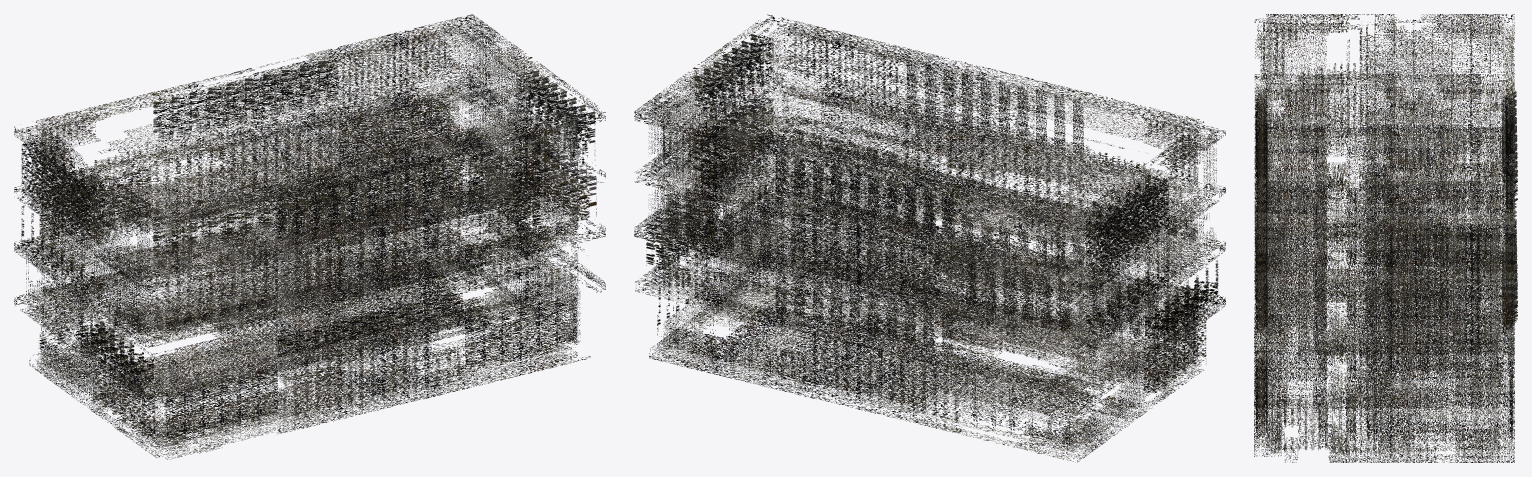
The model's file is WindowMeshGridBuilding.fbx.
3 views of the same model, side by side, from view 1: azimuth 30°, elevation 25°; view 2: azimuth 150°, elevation 25°; view 3: azimuth 270°, elevation 25° (orthographic). The views are drawn at different scales.
Visible parts, largest first — view 1: Cube.003; view 2: Cube.003; view 3: Cube.003.
Part boxes in pixels (left/top/right/bottom): Cube.003: left=14, top=14, right=605, bottom=459; Cube.003: left=634, top=14, right=1225, bottom=462; Cube.003: left=1254, top=14, right=1517, bottom=462.
Size of the model in its own units: 291 by 145 by 146.
Materials: 1 (1 with a texture image).
